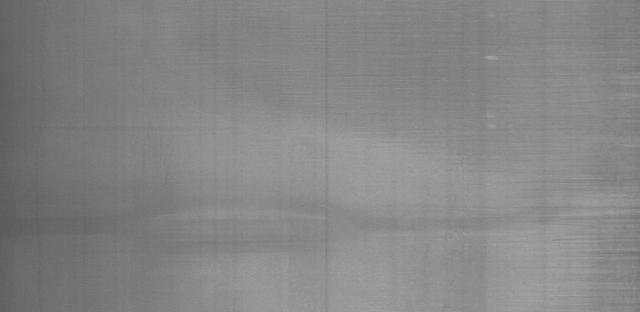waist_folding: (539, 28, 638, 312)
